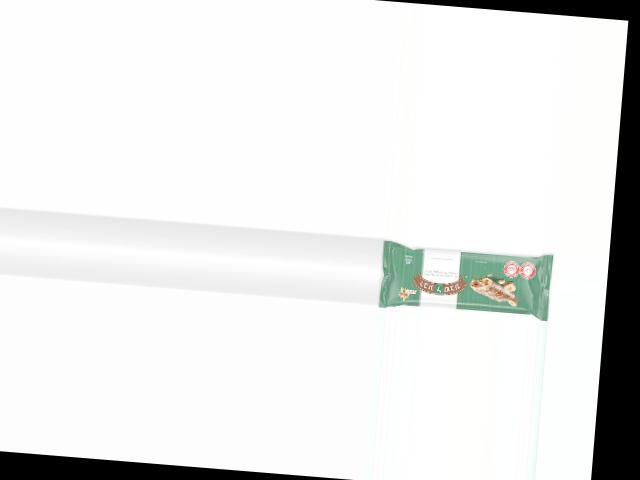chocolate: (375, 236, 555, 321)
